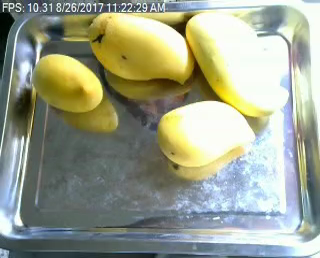Mango: (187, 12, 290, 118), (88, 11, 193, 81), (156, 100, 253, 168), (30, 52, 103, 112)
